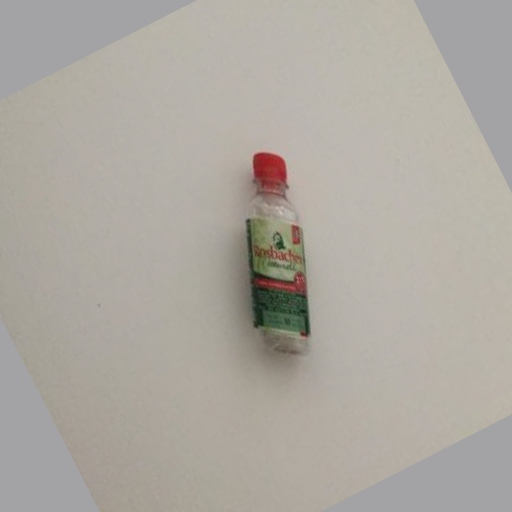Plastic_0: (245, 148, 310, 361)
